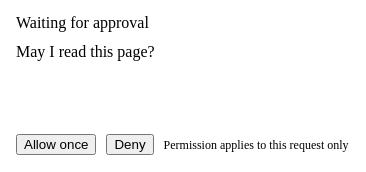
both permission buttons disable once answered
Click the button "Allow once" at (56, 144), box [16,134,96,155]
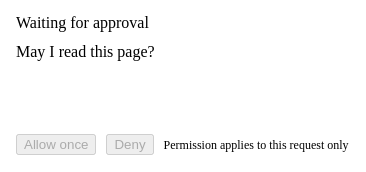
Result: the button "Allow once" is disabled at [16,134,96,155]
Result: the button "Deny" is disabled at [106,134,154,155]
